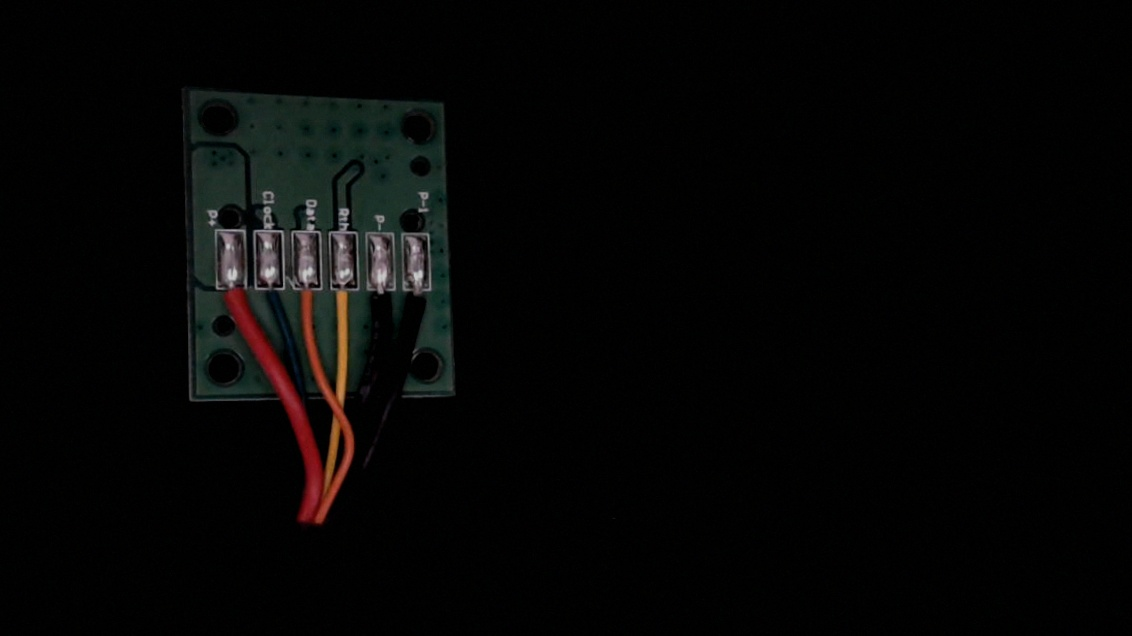Black: (365, 271, 398, 338)
Black1: (402, 273, 435, 335)
Green: (254, 266, 288, 330)
Orange: (291, 270, 322, 336)
Red: (216, 270, 249, 334)
Yellow: (329, 272, 362, 340)
